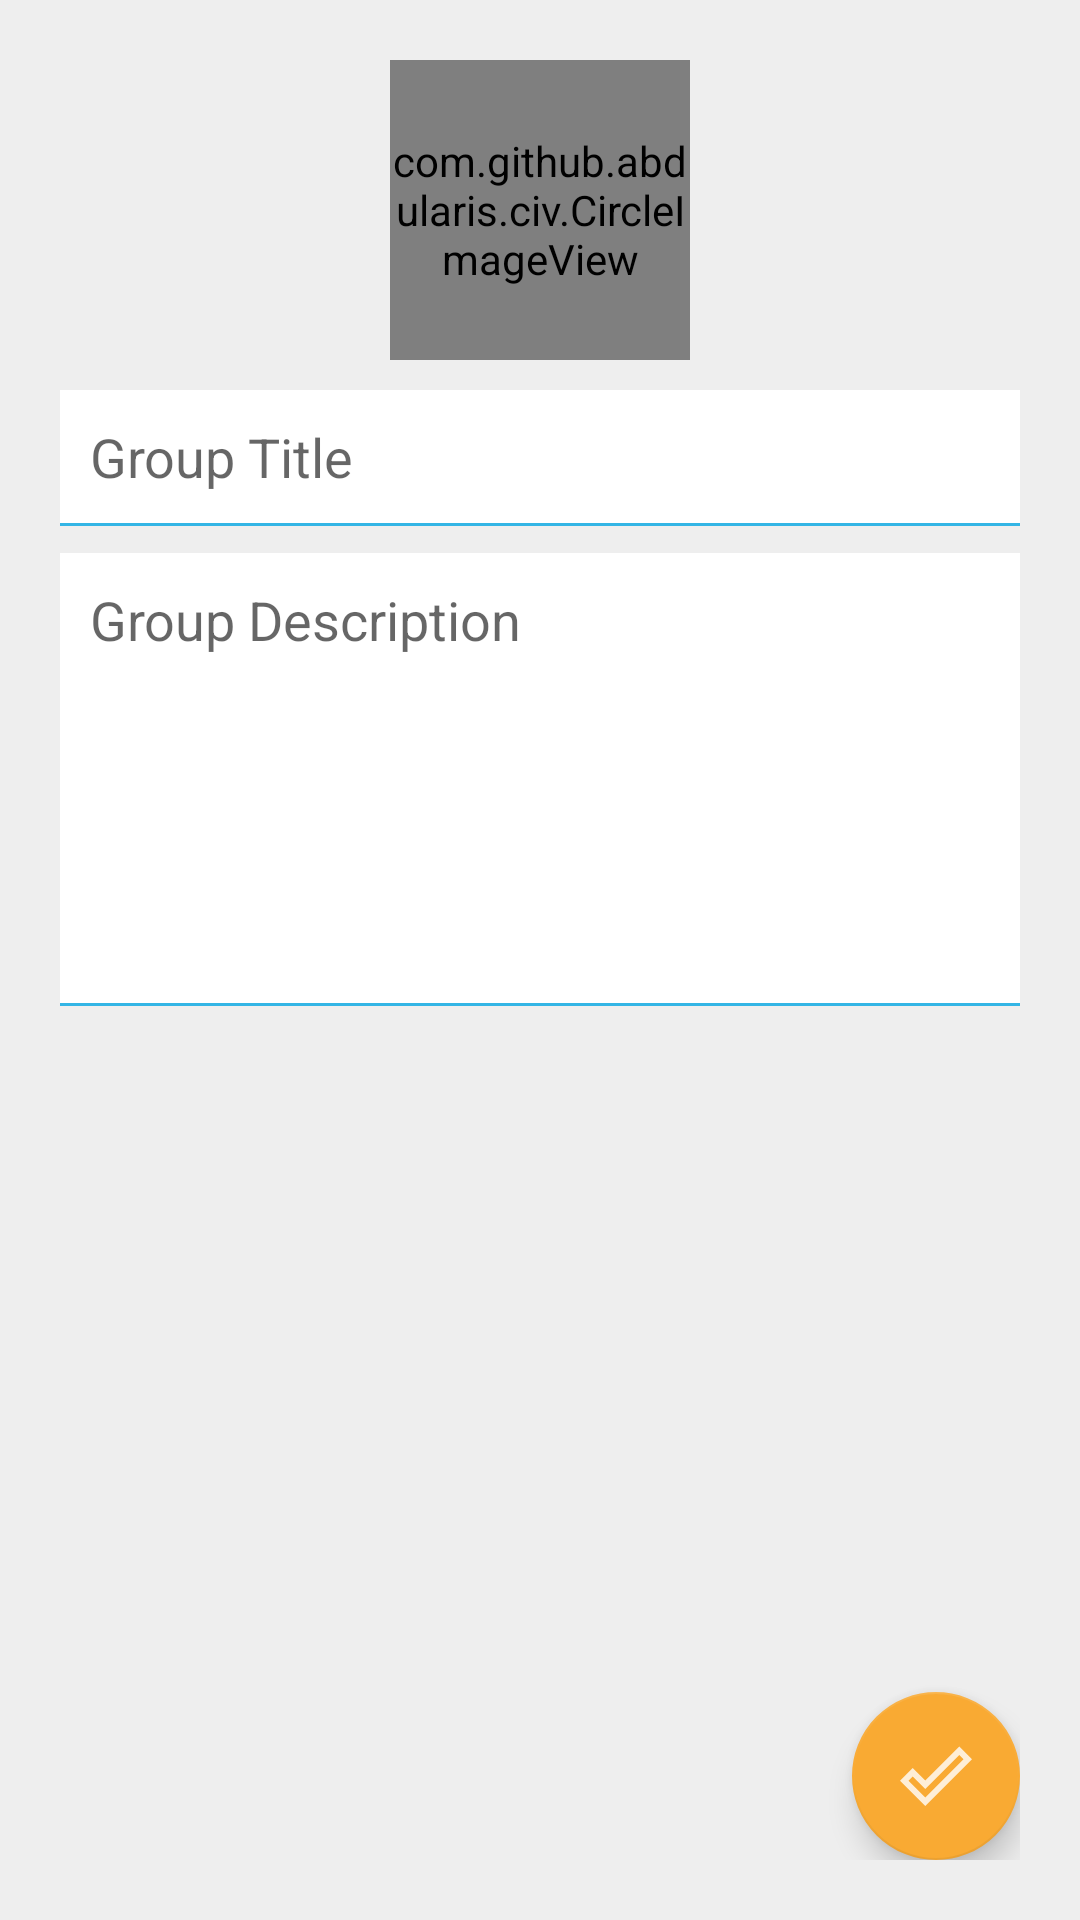

Point at icon controls on the screen. Image size 1080 × 1920, points as (x,y).
done: (936,1776)
